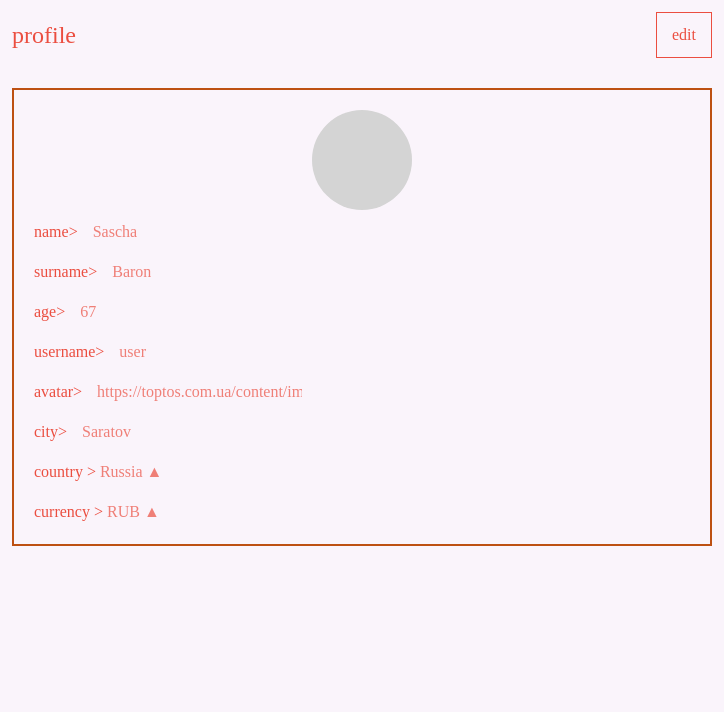
Test case: EditableProfileCard.cy.tsx › Test visualize ProfileCard
The image size is (724, 712).
Проверяем наличие кнопки редактирования и нажимаем ее
Step 1. Click the button with test id "ProfileCard.EditBtn.Button" → (684, 35), box [656, 12, 712, 58]
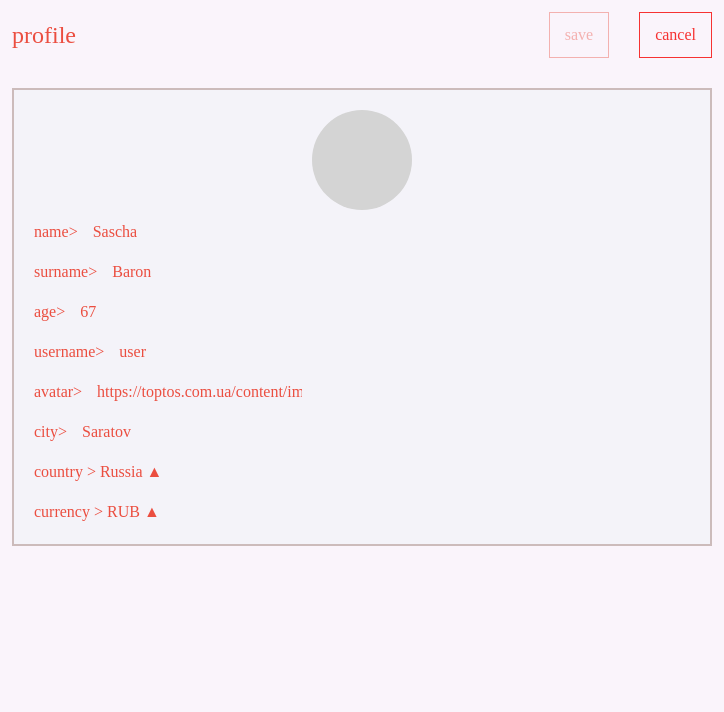
Expected: the button with test id "ProfileCard.CancelBtn.Button" is shown
Проверяем наличие кнопки отмены и нажимем ее
Step 2. Click the button with test id "ProfileCard.CancelBtn.Button" → (676, 35), box [639, 12, 712, 58]
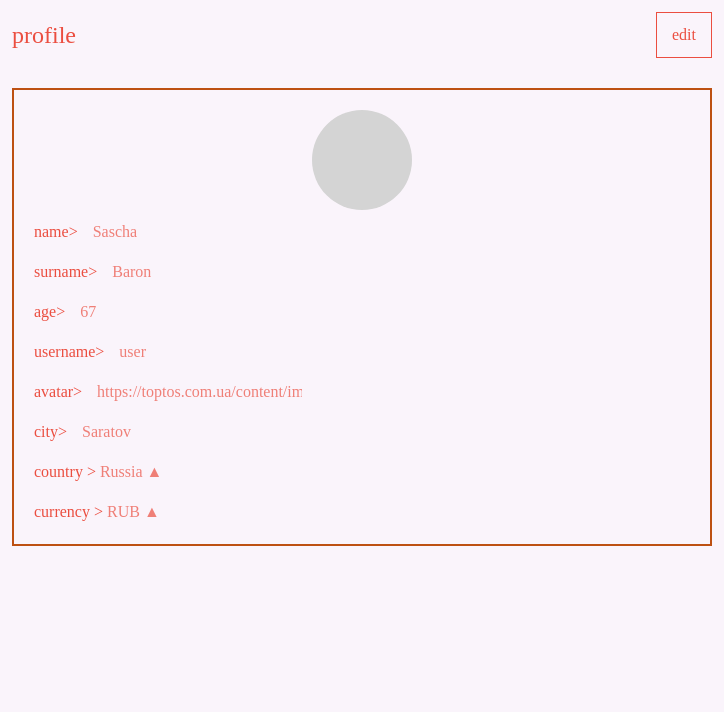
Expected: the button with test id "ProfileCard.EditBtn.Button" is shown, [656, 12, 712, 58]
